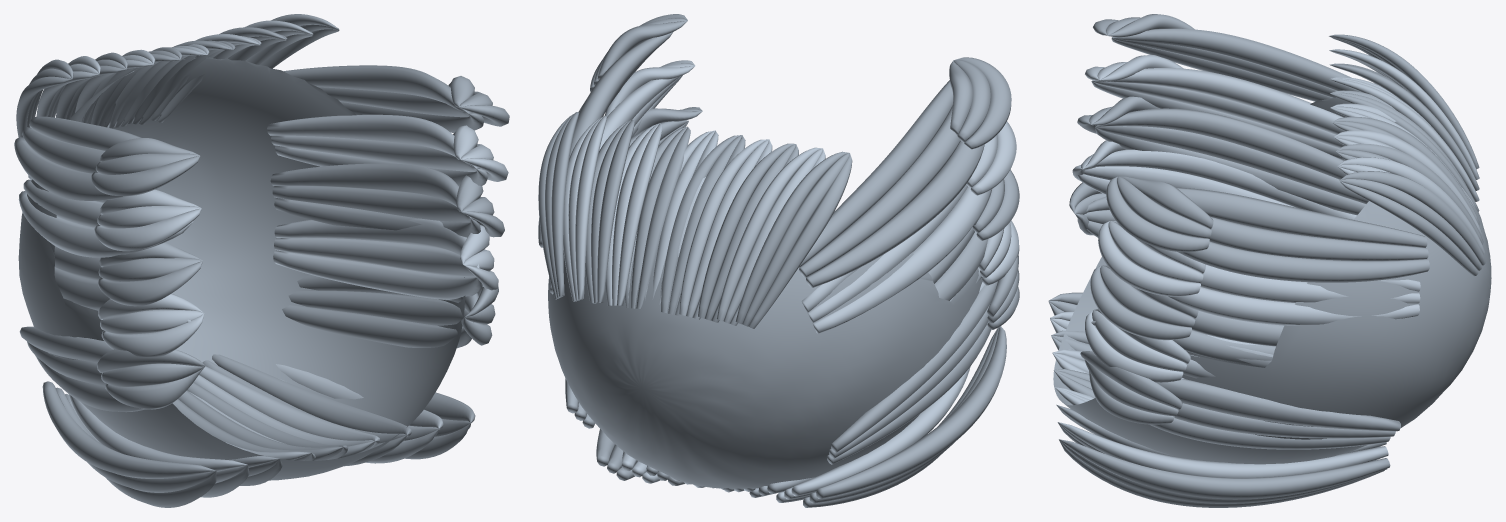
3 views of the same model, side by side, from view 1: azimuth 30°, elevation 25°; view 2: azimuth 150°, elevation 25°; view 3: azimuth 270°, elevation 25° (orthographic). The views are drawn at different scales.
Visible parts, largest first — view 1: CrownHair_ref03, SideHair_1_3_Strand0, SideHair_1_2_Strand2, SideHair_1_1_Strand2, SideHair_1_3_Strand1, SideHair_1_4_Strand0, SideHair_1_2_Strand1, SideHair_1_4_Strand1, BackHair_00_Strand0, BackHair_06_Strand2, SideHair_1_0_Strand2, SideHair_1_1_Strand1 (+66 smaller); view 2: CrownHair_ref03, SideHair_-1_0_Strand2, BackHair_00_Strand0, SideHair_-1_0_Strand0, SideHair_-1_0_Strand1, SideHair_-1_1_Strand2, SideHair_-1_4_Strand0, BackHair_01_Strand0, FrontHair_00_Strand2, FrontHair_00_Strand0, FrontHair_01_Strand0, SideHair_1_0_Strand2 (+46 smaller); view 3: CrownHair_ref03, BackHair_08_Strand2, SideHair_1_0_Strand2, SideHair_1_0_Strand0, SideHair_-1_2_Strand0, SideHair_-1_1_Strand0, BackHair_07_Strand2, SideHair_1_0_Strand1, SideHair_1_4_Strand2, SideHair_-1_0_Strand0, SideHair_-1_2_Strand1, SideHair_-1_3_Strand0 (+47 smaller).
Part boxes in pixels (x1,y1,x2,y2): CrownHair_ref03: (18, 57, 465, 480); SideHair_1_3_Strand0: (273, 250, 482, 299); SideHair_1_2_Strand2: (270, 163, 470, 217); SideHair_1_1_Strand2: (267, 114, 475, 168); SideHair_1_3_Strand1: (274, 237, 475, 277); SideHair_1_4_Strand0: (282, 305, 471, 348); SideHair_1_2_Strand1: (272, 186, 474, 222); SideHair_1_4_Strand1: (288, 290, 474, 327); BackHair_00_Strand0: (42, 381, 215, 478); BackHair_06_Strand2: (212, 354, 411, 437); SideHair_1_0_Strand2: (283, 65, 467, 113); SideHair_1_1_Strand1: (271, 135, 479, 171); CrownHair_ref03: (548, 247, 982, 488); SideHair_-1_0_Strand2: (806, 141, 984, 287); BackHair_00_Strand0: (816, 326, 1006, 498); SideHair_-1_0_Strand0: (798, 80, 953, 267); SideHair_-1_0_Strand1: (799, 107, 960, 277); SideHair_-1_1_Strand2: (812, 186, 990, 333); SideHair_-1_4_Strand0: (831, 281, 997, 452); BackHair_01_Strand0: (791, 366, 970, 496); FrontHair_00_Strand2: (748, 153, 852, 328); FrontHair_00_Strand0: (735, 151, 848, 324); FrontHair_01_Strand0: (716, 147, 822, 321); SideHair_1_0_Strand2: (569, 31, 673, 156); CrownHair_ref03: (1053, 97, 1491, 464); BackHair_08_Strand2: (1059, 439, 1390, 499); SideHair_1_0_Strand2: (1176, 187, 1427, 247); SideHair_1_0_Strand0: (1177, 241, 1429, 282); SideHair_-1_2_Strand0: (1095, 108, 1346, 179); SideHair_-1_1_Strand0: (1092, 68, 1345, 134); BackHair_07_Strand2: (1058, 422, 1388, 477); SideHair_1_0_Strand1: (1209, 216, 1428, 260); SideHair_1_4_Strand2: (1157, 378, 1400, 431); SideHair_-1_0_Strand0: (1112, 28, 1359, 91); SideHair_-1_2_Strand1: (1095, 126, 1368, 203); SideHair_-1_3_Strand0: (1080, 149, 1356, 219).
Size of the model in its own units: 0.656 by 0.6171 by 0.6602.
